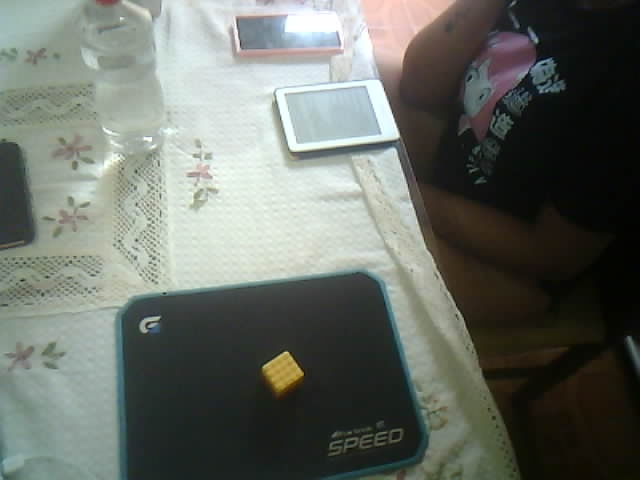lego: (260, 350, 305, 399)
